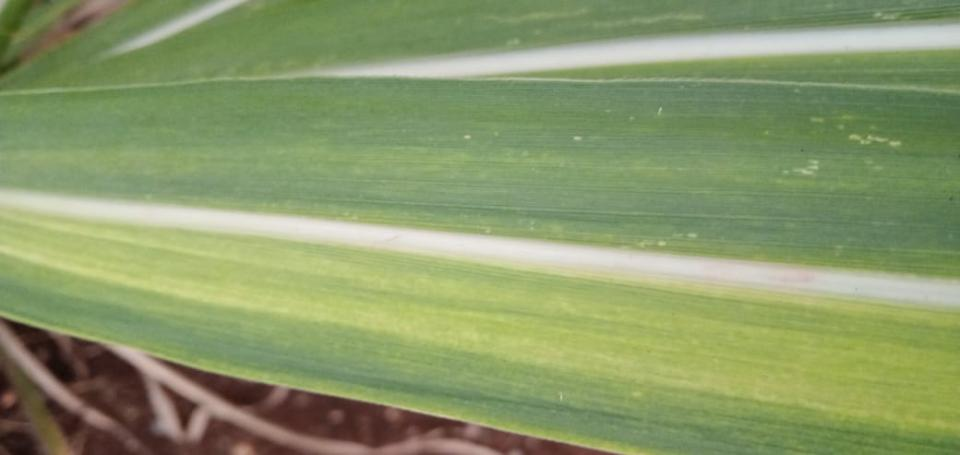Healthy: (0, 74, 959, 454)
